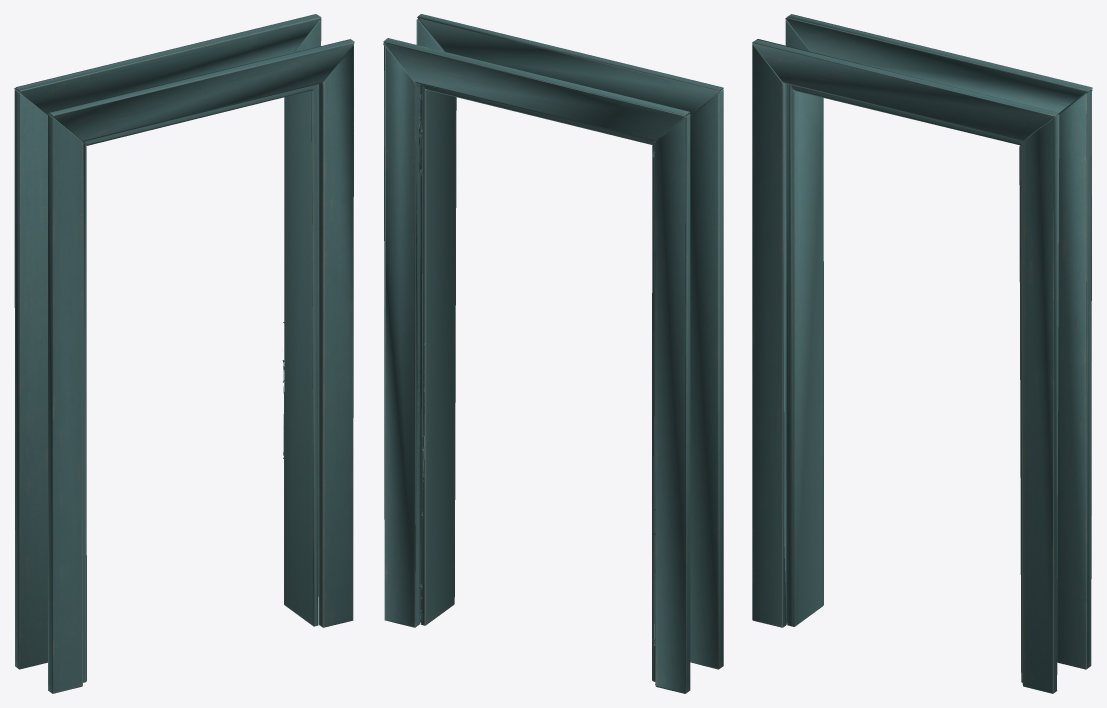
Rendered from ck_door_frame-cleaned.glb.
3 renders of one model, left to right at view 1: azimuth 30°, elevation 25°; view 2: azimuth 150°, elevation 25°; view 3: azimuth 330°, elevation 25°, orthographic.
Size of the model in its own units: 0.52 by 0.9497 by 0.1147.
Materials: 1 (1 with a texture image).
